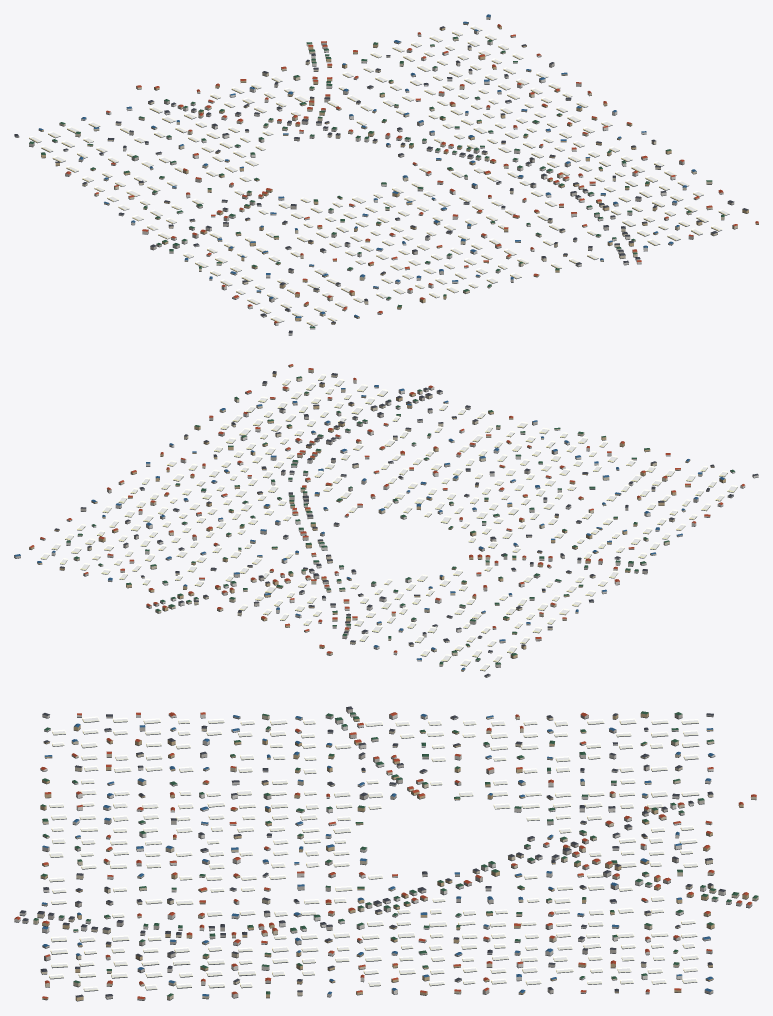
The model's file is buildings_T_E04_N02.glb.
3 renders of one model, top to bottom at view 1: azimuth 30°, elevation 25°; view 2: azimuth 150°, elevation 25°; view 3: azimuth 270°, elevation 25°, orthographic. The views are drawn at different scales.
Visible parts, largest first — view 1: T_E04_N02_roofs_agri_greenhouse_arch, T_E04_N02_slope_seating_foundations, T_E04_N02_walls_wall_modern_warm_white, T_E04_N02_walls_wall_french_ochre_villa, T_E04_N02_walls_wall_pastel_sand_gray, T_E04_N02_walls_wall_dalat_cream_stucco, T_E04_N02_roofs_roof_terracotta_gable, T_E04_N02_roofs_roof_slate_French_villa_hip, T_E04_N02_roofs_roof_pine_green_hip, T_E04_N02_roofs_roof_highland_blue_gable; view 2: T_E04_N02_roofs_agri_greenhouse_arch, T_E04_N02_slope_seating_foundations, T_E04_N02_walls_wall_french_ochre_villa, T_E04_N02_walls_wall_modern_warm_white, T_E04_N02_walls_wall_pastel_sand_gray, T_E04_N02_walls_wall_dalat_cream_stucco, T_E04_N02_roofs_roof_terracotta_gable, T_E04_N02_roofs_roof_slate_French_villa_hip, T_E04_N02_roofs_roof_pine_green_hip, T_E04_N02_roofs_roof_highland_blue_gable; view 3: T_E04_N02_roofs_agri_greenhouse_arch, T_E04_N02_slope_seating_foundations, T_E04_N02_walls_wall_pastel_sand_gray, T_E04_N02_walls_wall_french_ochre_villa, T_E04_N02_walls_wall_modern_warm_white, T_E04_N02_walls_wall_dalat_cream_stucco, T_E04_N02_roofs_roof_terracotta_gable, T_E04_N02_roofs_roof_slate_French_villa_hip, T_E04_N02_roofs_roof_pine_green_hip, T_E04_N02_roofs_roof_highland_blue_gable.
Part boxes in pixels (x1=…): T_E04_N02_roofs_agri_greenhouse_arch: x1=29, y1=25, x2=729, y2=325; T_E04_N02_slope_seating_foundations: x1=14, y1=19, x2=758, y2=335; T_E04_N02_walls_wall_modern_warm_white: x1=63, y1=30, x2=675, y2=335; T_E04_N02_walls_wall_french_ochre_villa: x1=38, y1=22, x2=758, y2=324; T_E04_N02_walls_wall_pastel_sand_gray: x1=14, y1=15, x2=734, y2=316; T_E04_N02_walls_wall_dalat_cream_stucco: x1=59, y1=38, x2=737, y2=315; T_E04_N02_roofs_roof_terracotta_gable: x1=65, y1=24, x2=758, y2=323; T_E04_N02_roofs_roof_slate_French_villa_hip: x1=14, y1=26, x2=748, y2=333; T_E04_N02_roofs_roof_pine_green_hip: x1=29, y1=36, x2=724, y2=327; T_E04_N02_roofs_roof_highland_blue_gable: x1=39, y1=14, x2=696, y2=318; T_E04_N02_roofs_agri_greenhouse_arch: x1=40, y1=374, x2=737, y2=670; T_E04_N02_slope_seating_foundations: x1=14, y1=366, x2=758, y2=677; T_E04_N02_walls_wall_french_ochre_villa: x1=29, y1=365, x2=725, y2=671; T_E04_N02_walls_wall_modern_warm_white: x1=51, y1=387, x2=758, y2=660; T_E04_N02_walls_wall_pastel_sand_gray: x1=14, y1=379, x2=733, y2=677; T_E04_N02_walls_wall_dalat_cream_stucco: x1=73, y1=368, x2=702, y2=666; T_E04_N02_roofs_roof_terracotta_gable: x1=30, y1=364, x2=744, y2=653; T_E04_N02_roofs_roof_slate_French_villa_hip: x1=54, y1=371, x2=758, y2=676; T_E04_N02_roofs_roof_pine_green_hip: x1=66, y1=376, x2=734, y2=664; T_E04_N02_roofs_roof_highland_blue_gable: x1=14, y1=385, x2=725, y2=670; T_E04_N02_roofs_agri_greenhouse_arch: x1=49, y1=716, x2=699, y2=990; T_E04_N02_slope_seating_foundations: x1=14, y1=711, x2=758, y2=1001; T_E04_N02_walls_wall_pastel_sand_gray: x1=22, y1=708, x2=752, y2=1000; T_E04_N02_walls_wall_french_ochre_villa: x1=40, y1=713, x2=748, y2=1000; T_E04_N02_walls_wall_modern_warm_white: x1=14, y1=713, x2=731, y2=996; T_E04_N02_walls_wall_dalat_cream_stucco: x1=33, y1=715, x2=758, y2=999; T_E04_N02_roofs_roof_terracotta_gable: x1=14, y1=712, x2=756, y2=999; T_E04_N02_roofs_roof_slate_French_villa_hip: x1=19, y1=706, x2=725, y2=997; T_E04_N02_roofs_roof_pine_green_hip: x1=33, y1=711, x2=758, y2=996; T_E04_N02_roofs_roof_highland_blue_gable: x1=42, y1=714, x2=714, y2=996.
Bounding box in the file's own units: 1791 × 35.28 × 1935.
